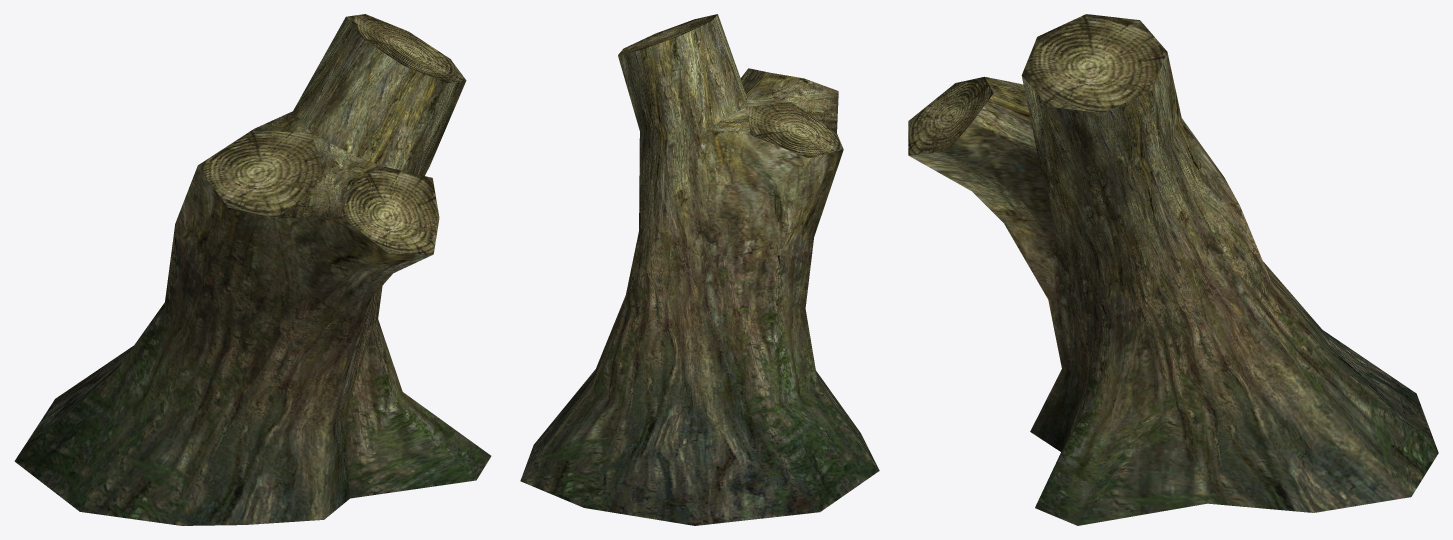
Rendered from guanmu_016.FBX.
3 renders of one model, left to right at view 1: azimuth 30°, elevation 25°; view 2: azimuth 150°, elevation 25°; view 3: azimuth 270°, elevation 25°, orthographic. The views are drawn at different scales.
Visible parts, largest first — view 1: objpnxxxxM_sanilmolin01, Object06; view 2: objpnxxxxM_sanilmolin01, Object06; view 3: objpnxxxxM_sanilmolin01, Object06.
Part boxes in pixels (left/top/right/bottom): objpnxxxxM_sanilmolin01: left=14, top=17, right=491, bottom=525; Object06: left=198, top=14, right=466, bottom=254; objpnxxxxM_sanilmolin01: left=520, top=14, right=879, bottom=525; Object06: left=618, top=14, right=843, bottom=158; objpnxxxxM_sanilmolin01: left=909, top=52, right=1438, bottom=525; Object06: left=908, top=14, right=1167, bottom=155.
Size of the model in its own units: 1.29 by 1.5 by 1.6.
